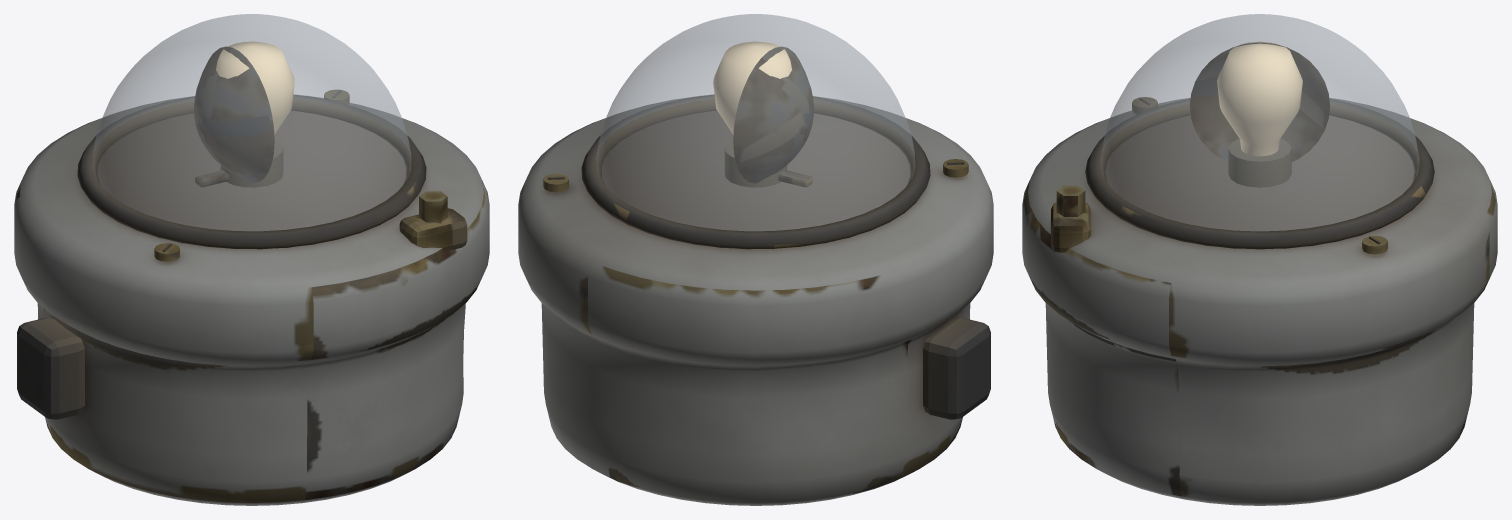
File: Beacon_Lamp.fbx
3 views of the same model, side by side, from view 1: azimuth 30°, elevation 25°; view 2: azimuth 150°, elevation 25°; view 3: azimuth 270°, elevation 25° (orthographic).
Parts seen in each view (by area): view 1: Beacon_Body, Beacon_Glass, Beacon_Mirror, Beacon_Bulb; view 2: Beacon_Body, Beacon_Glass, Beacon_Mirror, Beacon_Bulb; view 3: Beacon_Body, Beacon_Glass, Beacon_Bulb, Beacon_Mirror.
Boxes of the visible parts, x1,y1,x2,y2 form: Beacon_Body: [14, 90, 489, 505]; Beacon_Glass: [92, 14, 411, 230]; Beacon_Mirror: [194, 46, 274, 187]; Beacon_Bulb: [216, 41, 294, 134]; Beacon_Body: [518, 94, 993, 505]; Beacon_Glass: [596, 14, 915, 230]; Beacon_Mirror: [733, 46, 813, 187]; Beacon_Bulb: [713, 41, 791, 134]; Beacon_Body: [1022, 97, 1497, 505]; Beacon_Glass: [1100, 14, 1419, 230]; Beacon_Bulb: [1217, 41, 1302, 156]; Beacon_Mirror: [1190, 42, 1329, 161].
Bounding box in the file's own units: 0.172 × 0.152 × 0.166.
